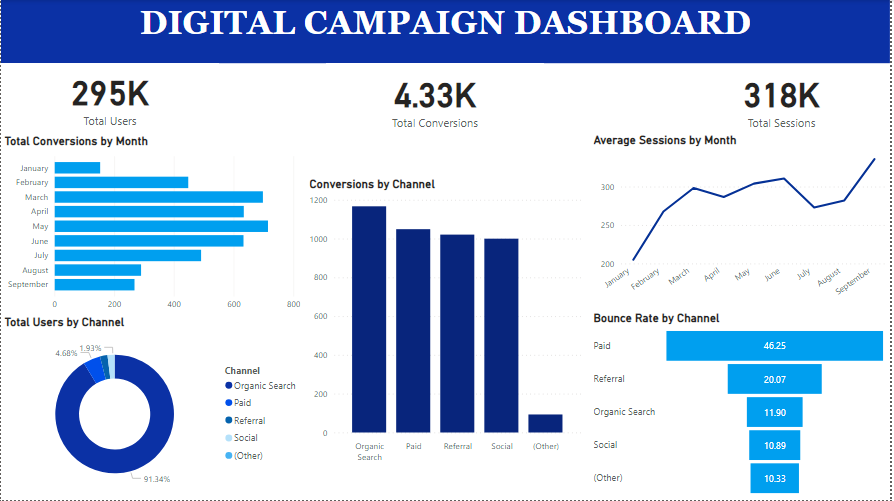

What the dashboard file says about the page in this screenshot:
{"tool":"powerbi","page":{"name":"dashboard","canvas":[1280,720],"ordinal":0},"visuals":[{"type":"funnel","title":"Almost half of the Bouncing Session was from Paid Channels","fields":{"Category":["full_web.Channel"],"Y":["Sum(full_web.Bounce Rate)"]},"box":[856.7,456.7,424,263.3],"z":0},{"type":"lineChart","title":"The peak Average Session occurred in September","fields":{"Y":["Avg(full_web.Sessions)"],"Category":["full_web.New Date.Variation.Date Hierarchy.Month"]},"box":[840.7,193.5,439.3,263.3],"z":1000},{"type":"clusteredBarChart","title":"Highest Conversions was in May, slightly above March","fields":{"Category":["full_web.New Date.Variation.Date Hierarchy.Month"],"Y":["Sum(full_web.Conversions)"]},"box":[0,193.5,436,263],"z":2000},{"type":"card","fields":{"Values":["Sum(full_web.Sessions)"]},"box":[967.7,90.7,312.5,102.2],"z":3000},{"type":"columnChart","title":"Comparable Conversion Rates across Channels","fields":{"Category":["full_web.Channel"],"Y":["Sum(full_web.Conversions)"]},"box":[439.3,254.5,401.5,418.9],"z":4000},{"type":"textbox","box":[0,0,1280.2,90.7],"z":5000},{"type":"donutChart","title":"Majority of Users are Organic Searcher","fields":{"Y":["Sum(full_web.Users)"],"Category":["full_web.Channel"]},"box":[0,453.8,439.3,266.2],"z":6000},{"type":"card","fields":{"Values":["Sum(full_web.Conversions)"]},"box":[468,90.7,313.9,102.2],"z":7000},{"type":"card","fields":{"Values":["Sum(full_web.Users)"]},"box":[0,90.7,313.9,96.5],"z":8000}]}

Visuals, with their boxes in screenshot pixels (x1, y1, x2, y2), scaled from the page's 1280x720 canvas onto the 894x501 screenshot:
"Almost half of the Bouncing Session was from Paid Channels" funnel: box=[598, 318, 893, 500]
"The peak Average Session occurred in September" lineChart: box=[587, 135, 893, 318]
"Highest Conversions was in May, slightly above March" clusteredBarChart: box=[0, 135, 305, 318]
card - Sum(full_web.Sessions): box=[676, 63, 893, 134]
"Comparable Conversion Rates across Channels" columnChart: box=[307, 177, 587, 469]
textbox: box=[0, 0, 893, 63]
"Majority of Users are Organic Searcher" donutChart: box=[0, 316, 307, 500]
card - Sum(full_web.Conversions): box=[327, 63, 546, 134]
card - Sum(full_web.Users): box=[0, 63, 219, 130]
